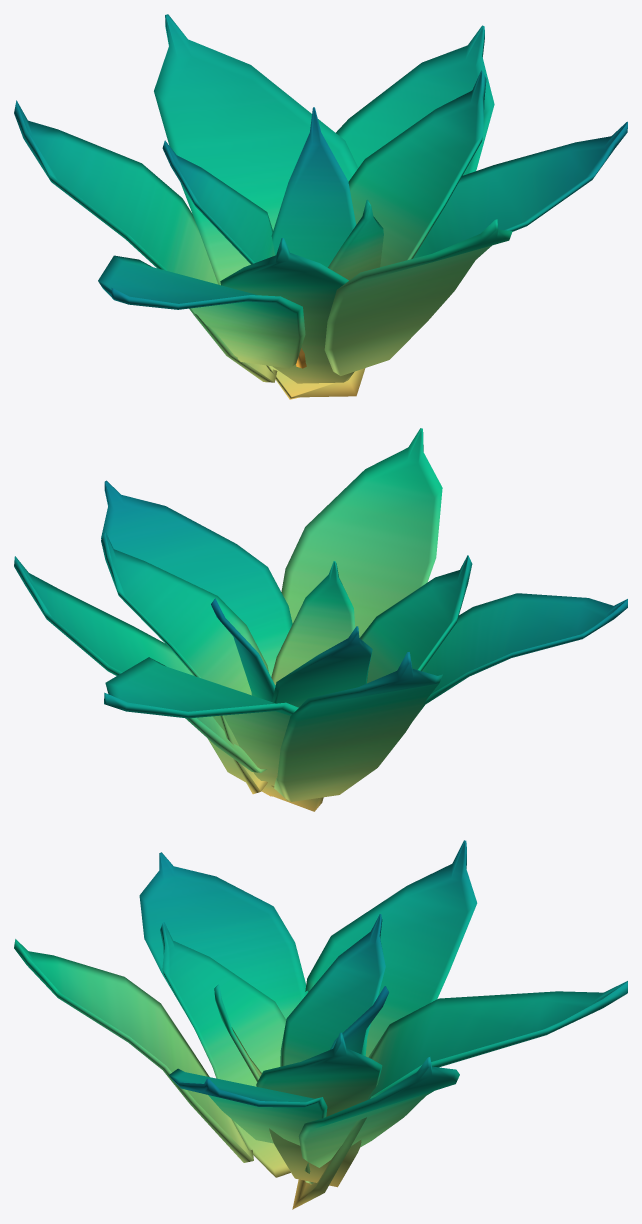
The model's file is Plant_1.fbx.
3 views of the same model, one above another, from view 1: azimuth 30°, elevation 25°; view 2: azimuth 150°, elevation 25°; view 3: azimuth 270°, elevation 25° (orthographic). The views are drawn at different scales.
Visible parts, largest first — view 1: Plant_1; view 2: Plant_1; view 3: Plant_1.
Part boxes in pixels (bbox=[...]): Plant_1: bbox=[14, 14, 627, 399]; Plant_1: bbox=[14, 428, 627, 811]; Plant_1: bbox=[14, 840, 627, 1209].
Size of the model in its own units: 2.64 by 1.35 by 2.84.
